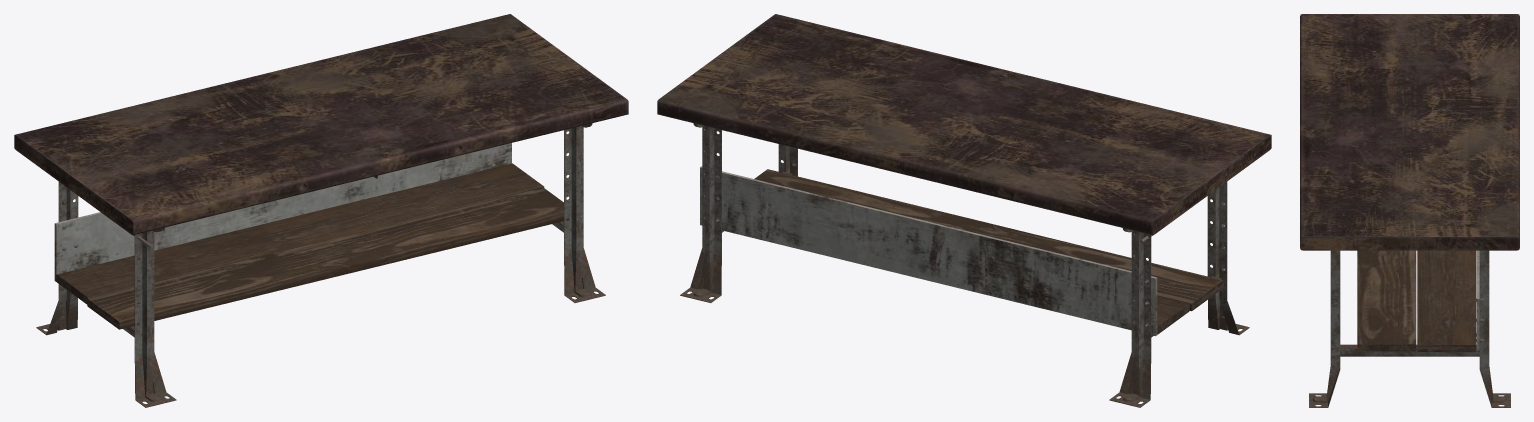
File: mesa.glb
3 renders of one model, left to right at view 1: azimuth 30°, elevation 25°; view 2: azimuth 150°, elevation 25°; view 3: azimuth 270°, elevation 25°, orthographic. The views are drawn at different scales.
Parts seen in each view (by area): view 1: mesa; view 2: mesa; view 3: mesa.
Boxes of the visible parts, x1,y1,x2,y2 form: mesa: (14, 14, 628, 407); mesa: (657, 14, 1271, 407); mesa: (1300, 14, 1519, 407).
Bounding box in the file's own units: 2.4 × 0.9 × 1.
2 materials, 2 textured.
